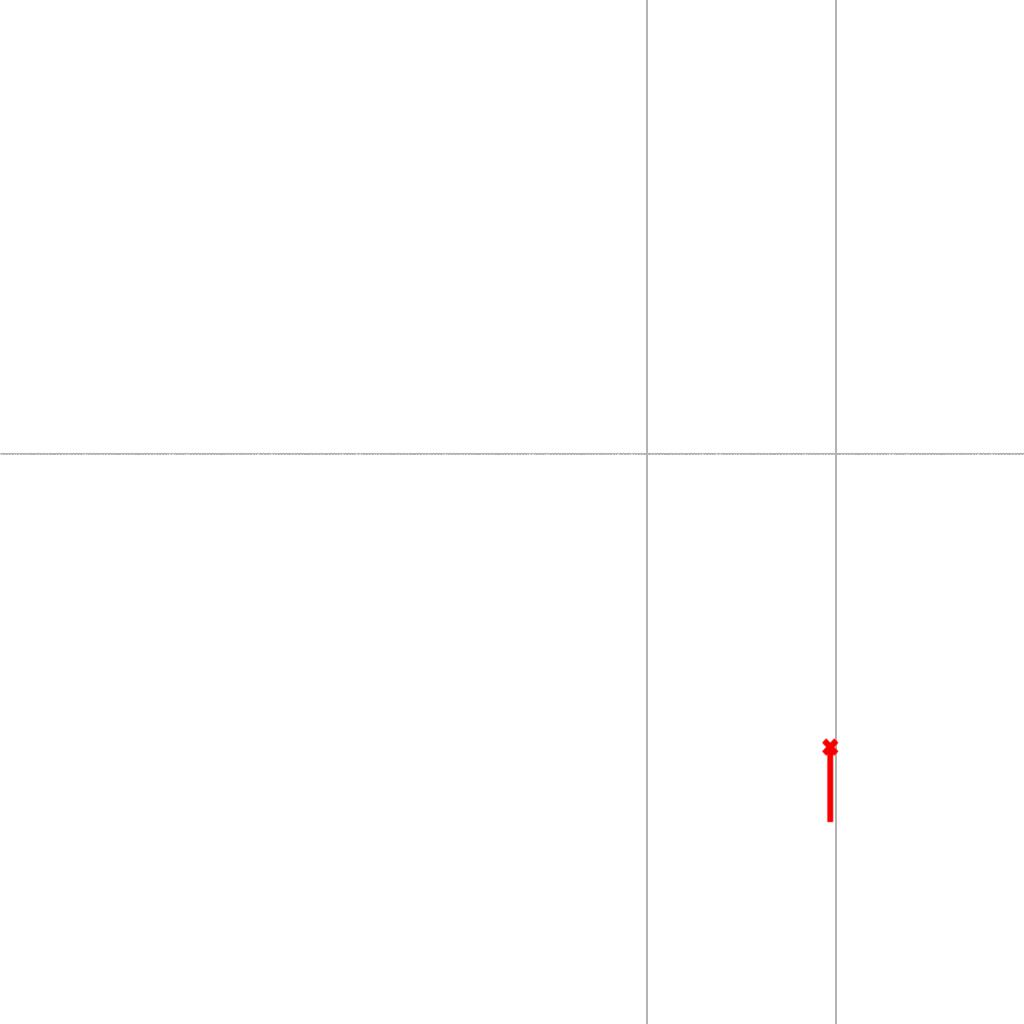ASR_Ansaugoeffnung: (820, 737, 843, 825)
